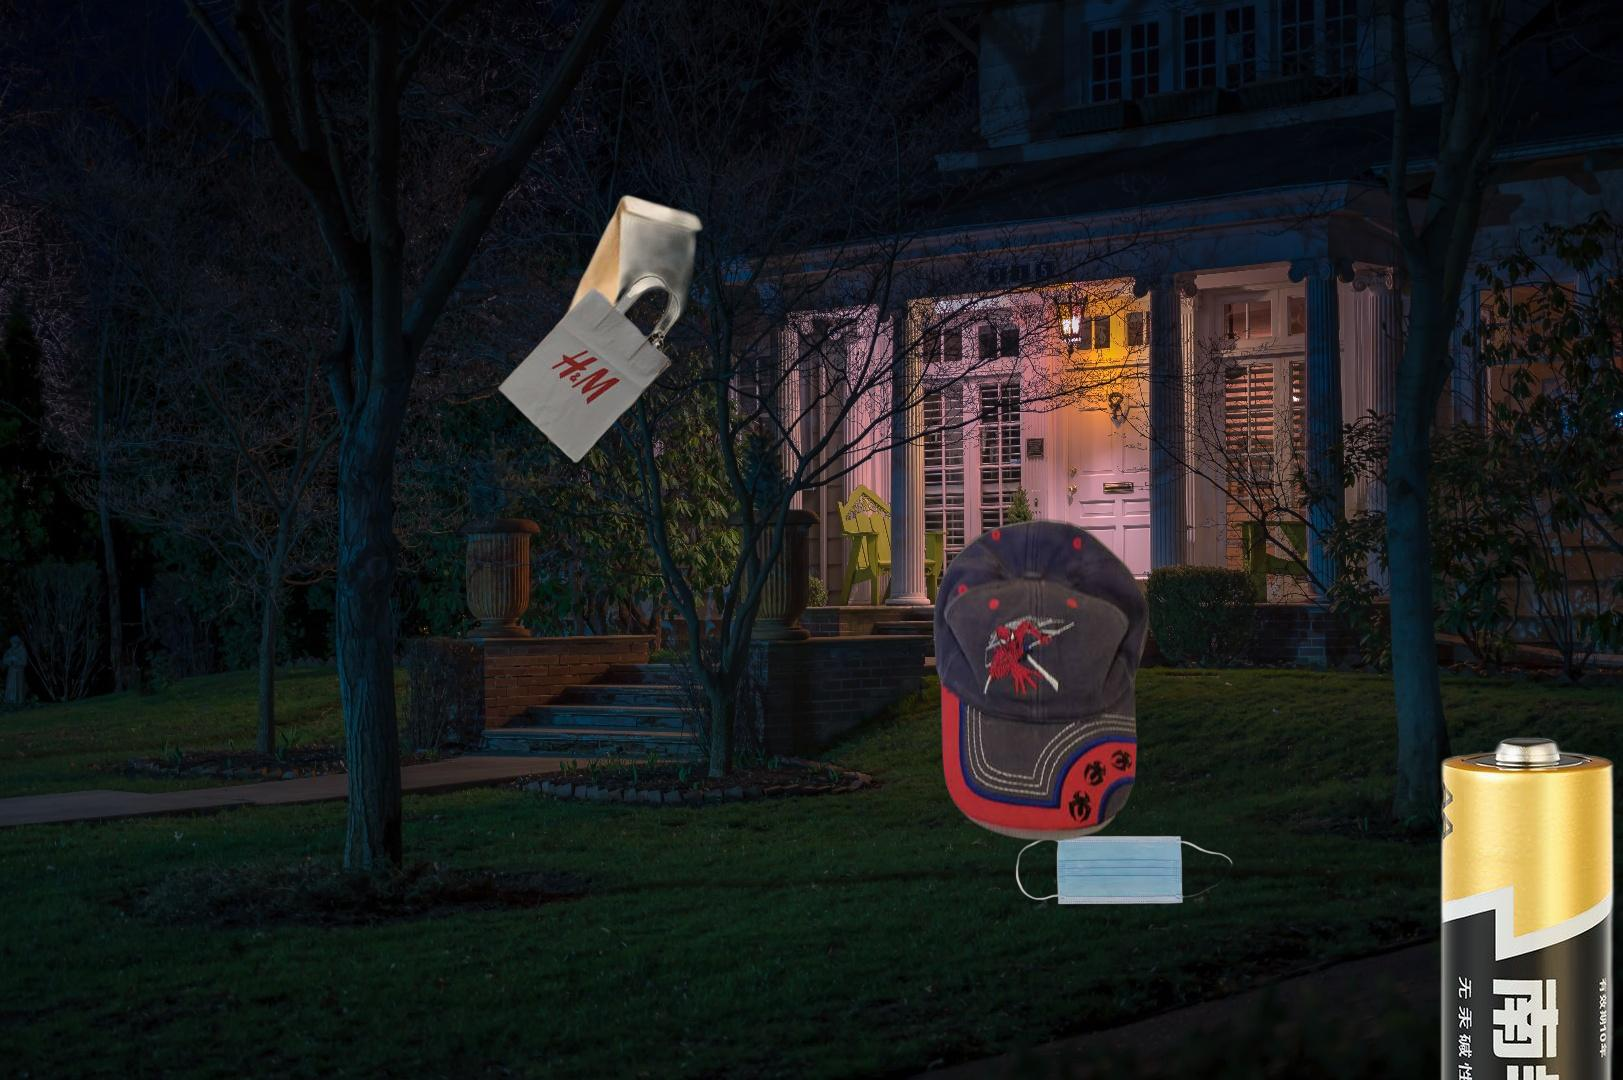battery: (1433, 730, 1623, 1080)
clothes: (930, 513, 1153, 845)
paper-bag: (496, 176, 707, 471)
trash: (1013, 833, 1236, 906)
